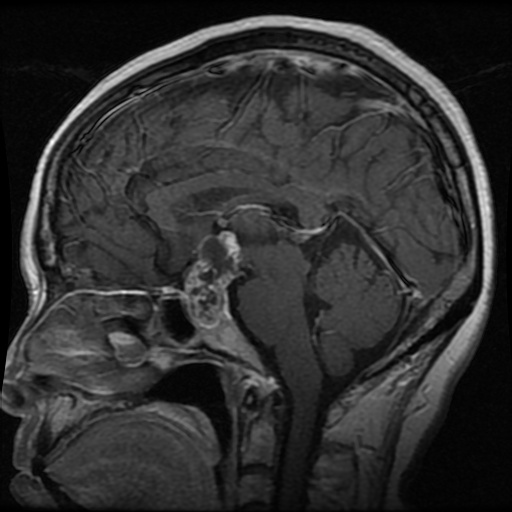pituitary: (185, 232, 239, 327)
